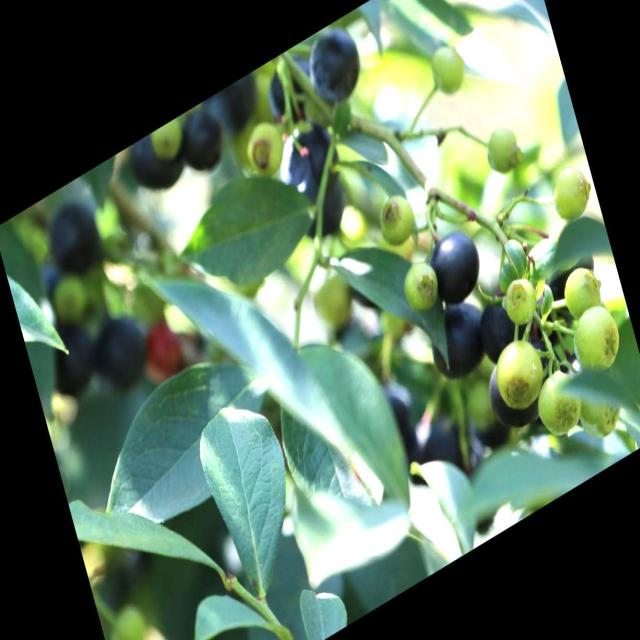blueberry: (84, 294, 158, 401), (272, 104, 346, 210), (32, 299, 102, 410), (42, 185, 111, 290), (299, 15, 371, 114), (422, 288, 493, 388), (119, 117, 192, 212), (479, 349, 545, 448), (421, 220, 487, 314), (174, 99, 234, 183), (470, 280, 530, 362)
blueberry-unripe: (488, 320, 553, 415), (564, 294, 626, 381), (530, 356, 588, 441), (553, 252, 608, 329), (544, 154, 595, 232), (239, 107, 289, 184), (310, 268, 358, 340), (395, 250, 445, 319), (372, 182, 420, 253), (575, 382, 624, 449), (422, 34, 470, 102), (478, 116, 522, 180), (498, 266, 542, 330)
